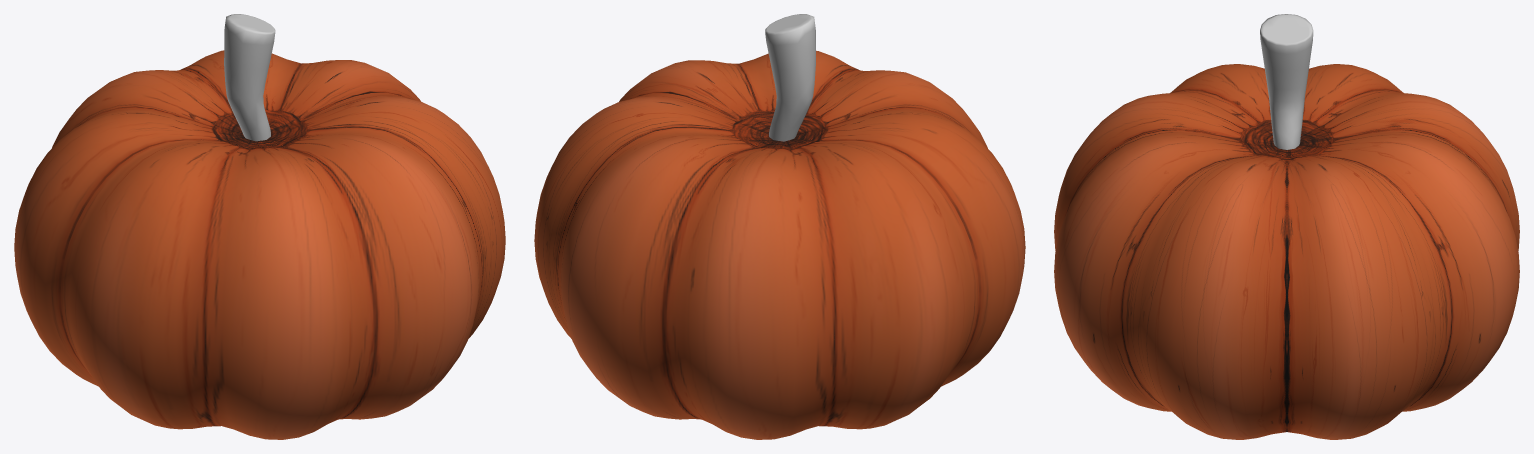
The model's file is calabazaLOD0.fbx.
3 renders of one model, left to right at view 1: azimuth 30°, elevation 25°; view 2: azimuth 150°, elevation 25°; view 3: azimuth 270°, elevation 25°, orthographic. The views are drawn at different scales.
Parts seen in each view (by area): view 1: Esfera.001, Esfera; view 2: Esfera.001, Esfera; view 3: Esfera.001, Esfera.
Boxes of the visible parts, x1,y1,x2,y2 form: Esfera.001: (14, 50, 505, 439); Esfera: (224, 14, 275, 141); Esfera.001: (534, 50, 1025, 439); Esfera: (765, 14, 815, 141); Esfera.001: (1054, 64, 1519, 439); Esfera: (1260, 14, 1313, 149).
Size of the model in its own units: 145 by 122 by 145.
